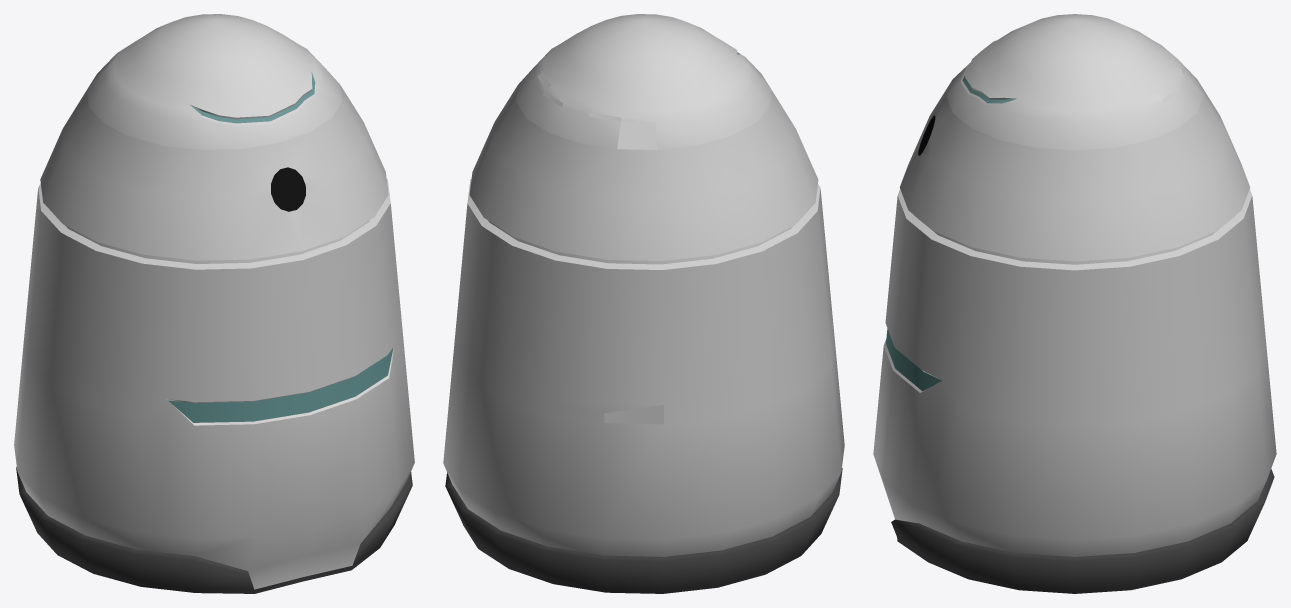
File: security2.fbx
3 renders of one model, left to right at view 1: azimuth 30°, elevation 25°; view 2: azimuth 150°, elevation 25°; view 3: azimuth 270°, elevation 25°, orthographic.
Visible parts, largest first — view 1: security2; view 2: security2; view 3: security2.
Boxes of the visible parts, <box> form: security2: <box>14,14,414,593</box>; security2: <box>443,14,844,593</box>; security2: <box>873,14,1276,593</box>.
Bounding box in the file's own units: 0.9764 × 1.33 × 0.9764.
